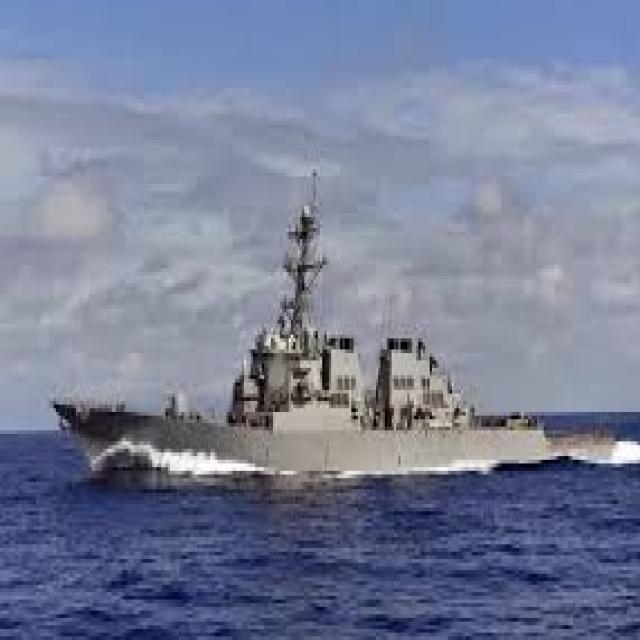navalvessels: (40, 164, 616, 504)
